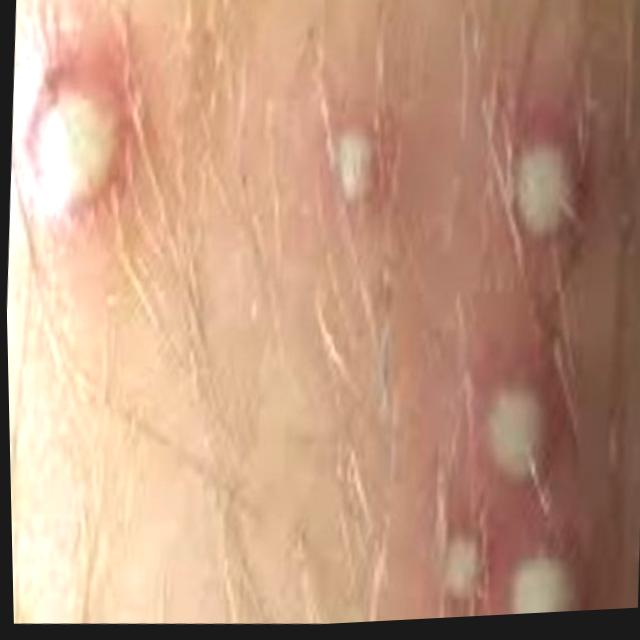pustule: (369, 80, 640, 625), (16, 37, 140, 258), (281, 98, 407, 264)
